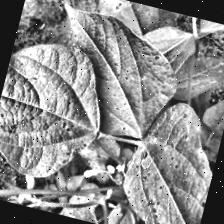ALS: (36, 3, 186, 147), (0, 49, 111, 193), (110, 88, 224, 224), (85, 0, 172, 41)
